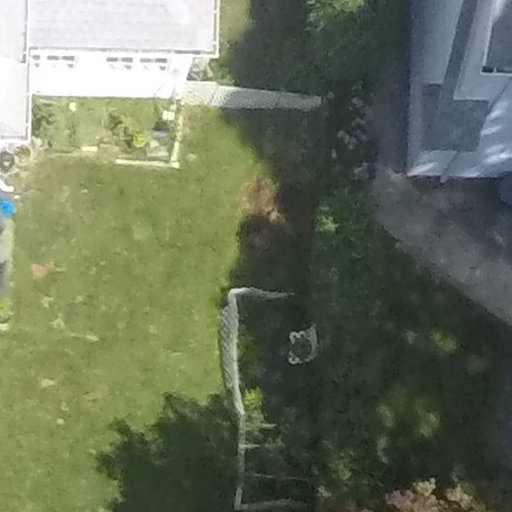fence: (214, 290, 253, 512), (183, 74, 322, 115), (221, 283, 292, 304)
flower pot: (132, 130, 150, 148)
